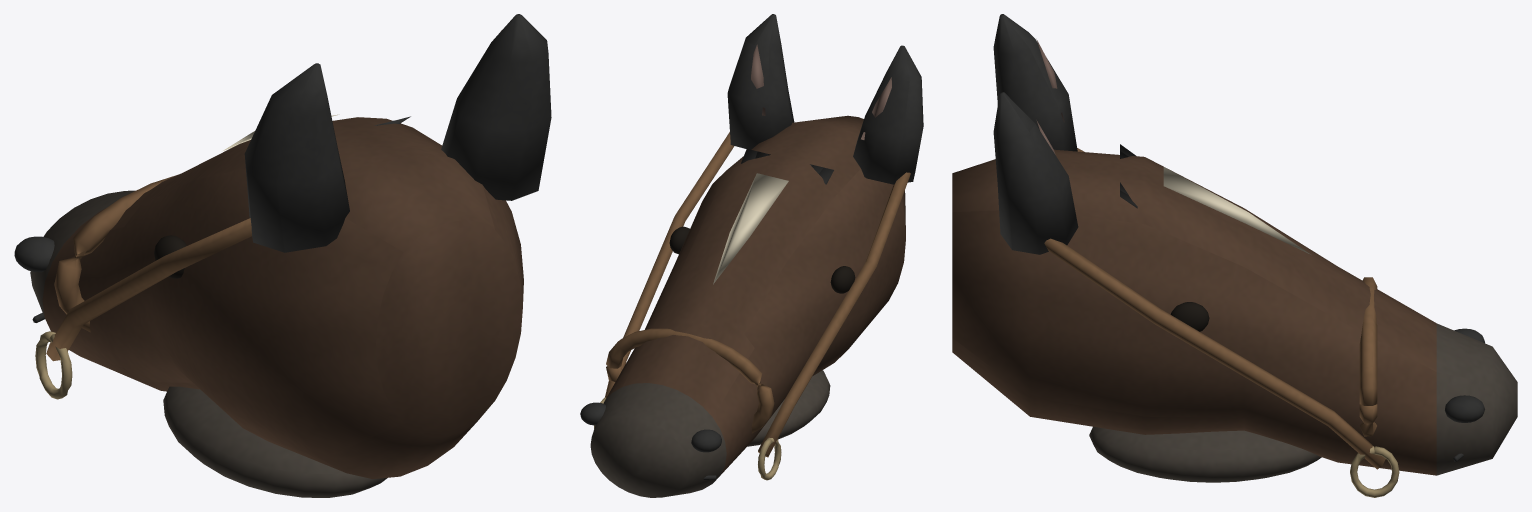
Rendered from head_lod0.glb.
The picture shows the model from 3 angles, left to right: view 1: azimuth 30°, elevation 25°; view 2: azimuth 150°, elevation 25°; view 3: azimuth 270°, elevation 25°; orthographic projection. The views are drawn at different scales.
Visible parts, largest first — view 1: agro_head_LOD0; view 2: agro_head_LOD0; view 3: agro_head_LOD0.
Boxes of the visible parts, left/top/right/bottom form: agro_head_LOD0: left=14, top=14, right=551, bottom=497; agro_head_LOD0: left=580, top=14, right=923, bottom=497; agro_head_LOD0: left=952, top=14, right=1517, bottom=497.
Bounding box in the file's own units: 0.41 × 0.6459 × 0.8008.
Materials: 8 (4 with a texture image).
